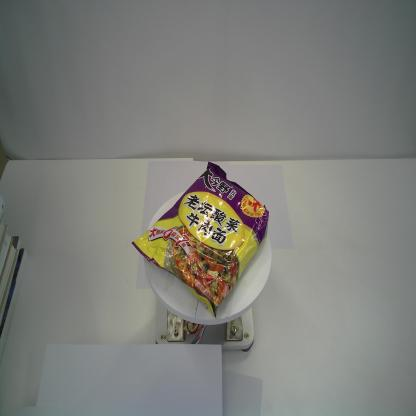Instant Noodles: (129, 158, 270, 320)
